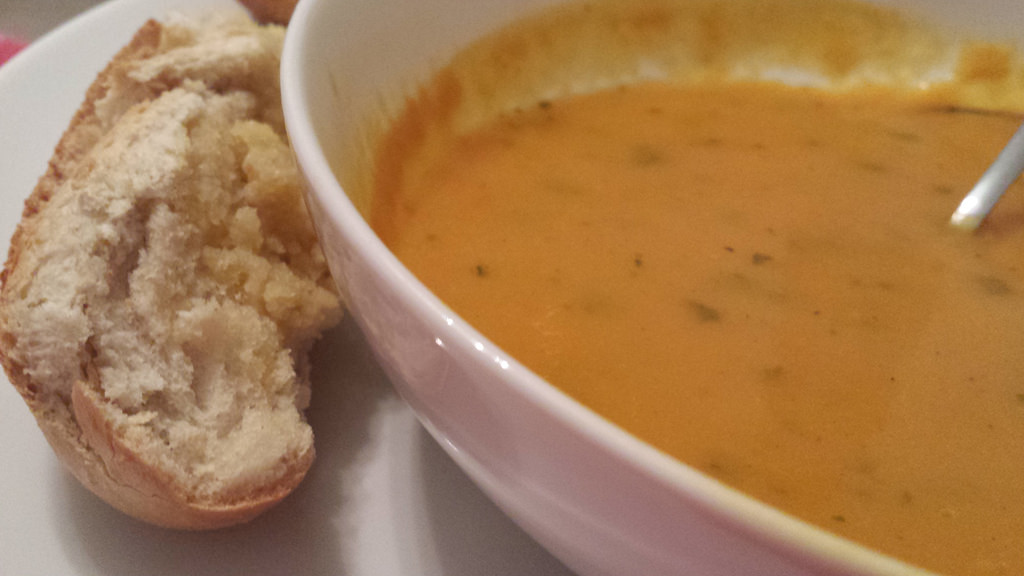slice of bread: (1, 28, 375, 518)
